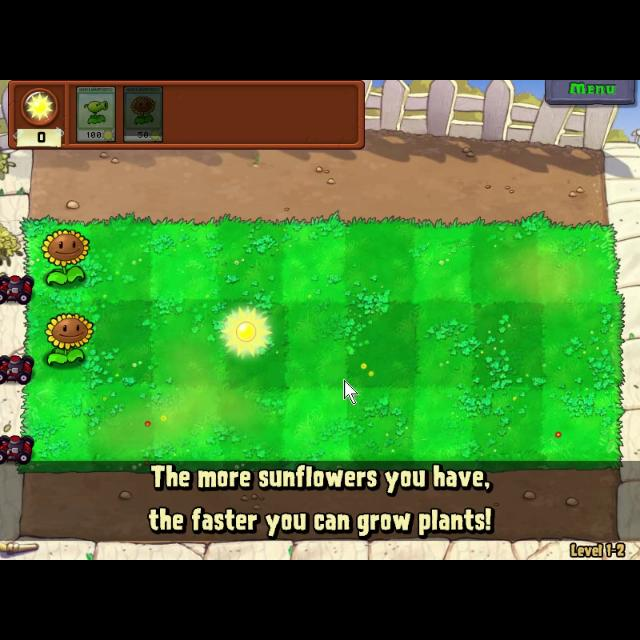Garden: (17, 214, 627, 476)
Menu Button: (544, 80, 636, 106)
Mower: (0, 348, 42, 388), (0, 270, 42, 308), (0, 429, 38, 465)
Peashooter: (74, 82, 118, 144)
Seed Panel: (6, 80, 368, 152)
Sun: (215, 303, 277, 362)
Sunflower: (122, 82, 164, 144)
Sunflower Seed: (38, 310, 98, 374), (38, 227, 90, 287)
